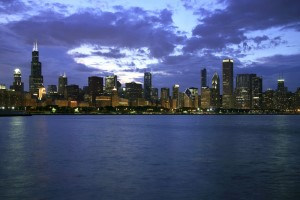willis: (27, 35, 45, 88)
